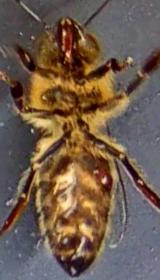varroa_mite: (75, 149, 123, 200)
